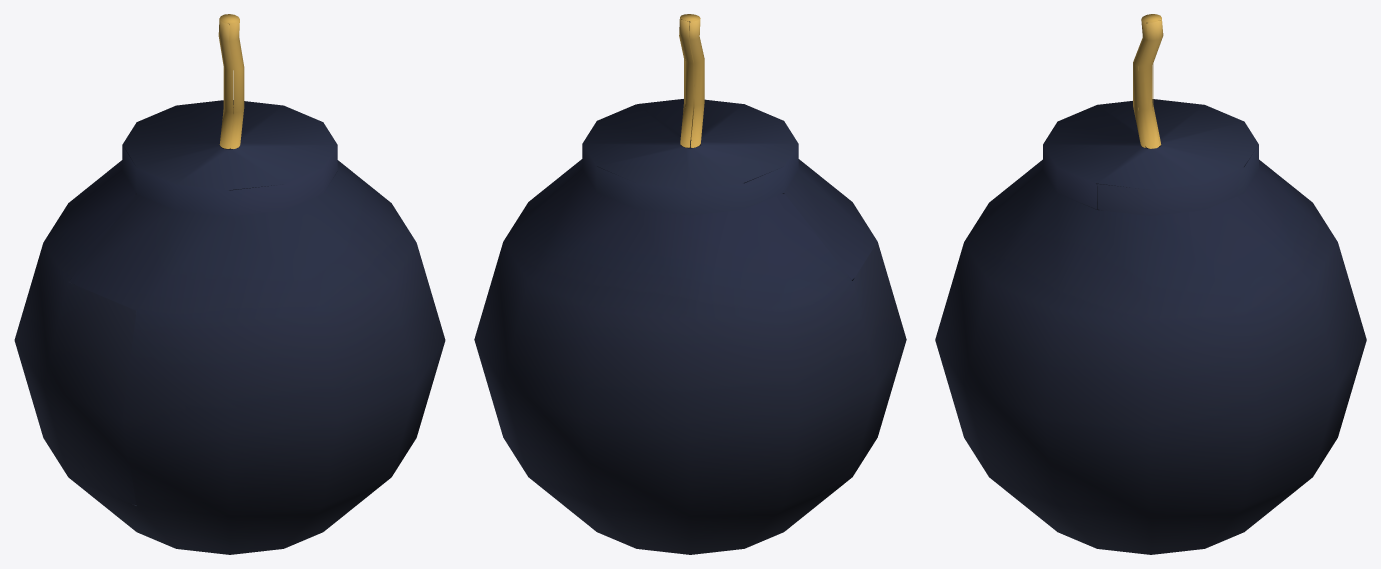
The model's file is Bum.fbx.
3 views of the same model, side by side, from view 1: azimuth 30°, elevation 25°; view 2: azimuth 150°, elevation 25°; view 3: azimuth 270°, elevation 25° (orthographic).
Parts seen in each view (by area): view 1: Sphere001; view 2: Sphere001; view 3: Sphere001.
Boxes of the visible parts, <box> form: Sphere001: <box>14,14,445,554</box>; Sphere001: <box>474,14,906,554</box>; Sphere001: <box>935,14,1366,554</box>.
Bounding box in the file's own units: 100 × 100 × 132.
Materials: 1 (1 with a texture image).
